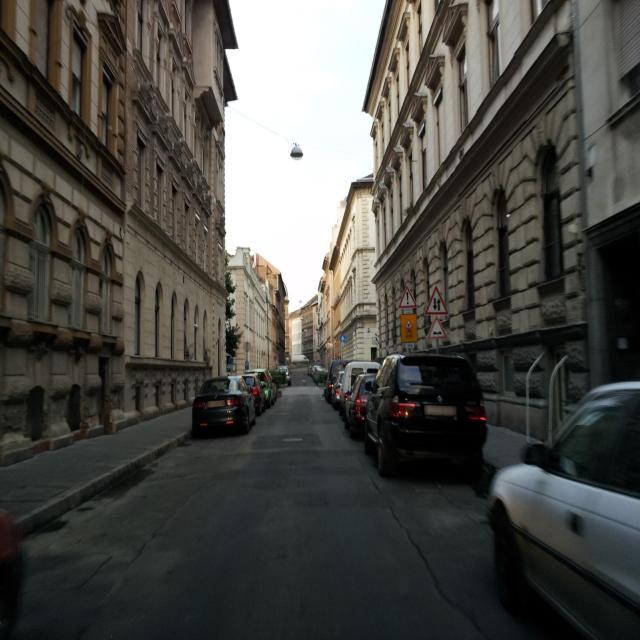Good: (282, 432, 305, 445), (272, 408, 288, 418)
